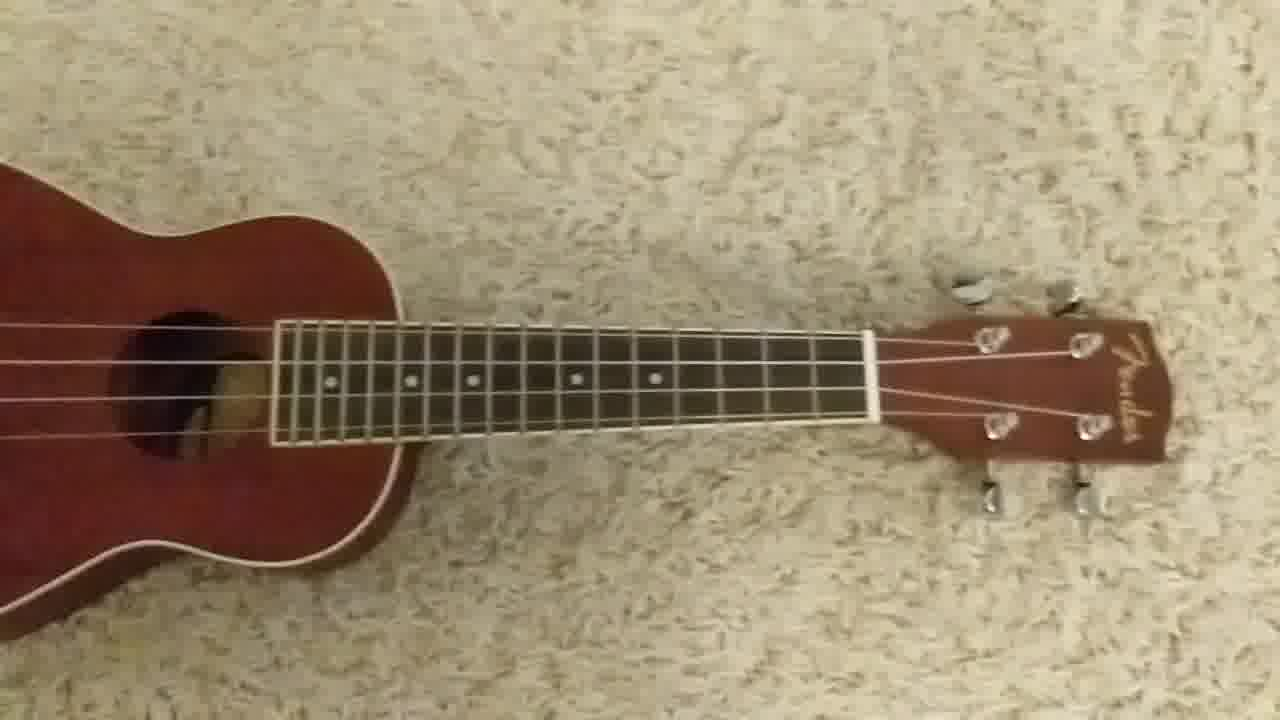Body: (1, 160, 418, 644)
Headstock: (878, 259, 1182, 533)
